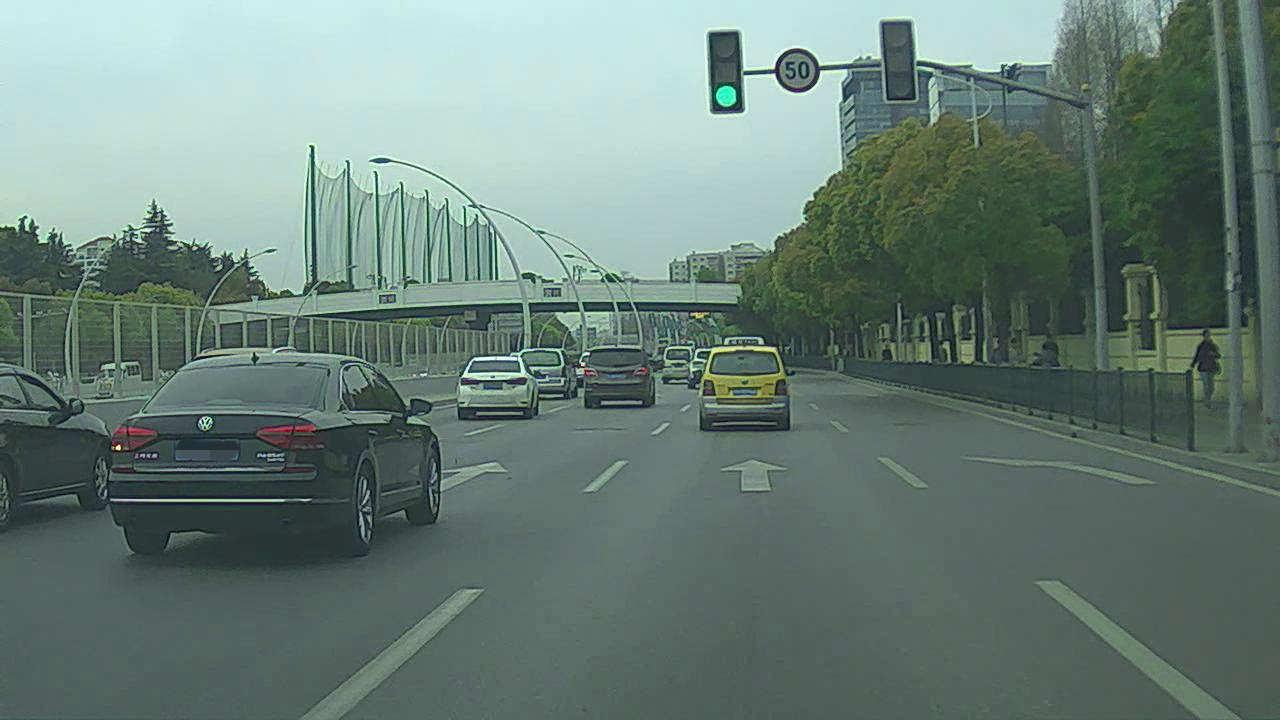traffic_light: (708, 31, 745, 113), (882, 21, 917, 100)
